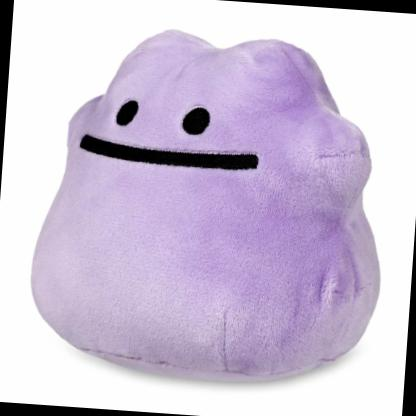Ditto: (1, 1, 416, 390)
